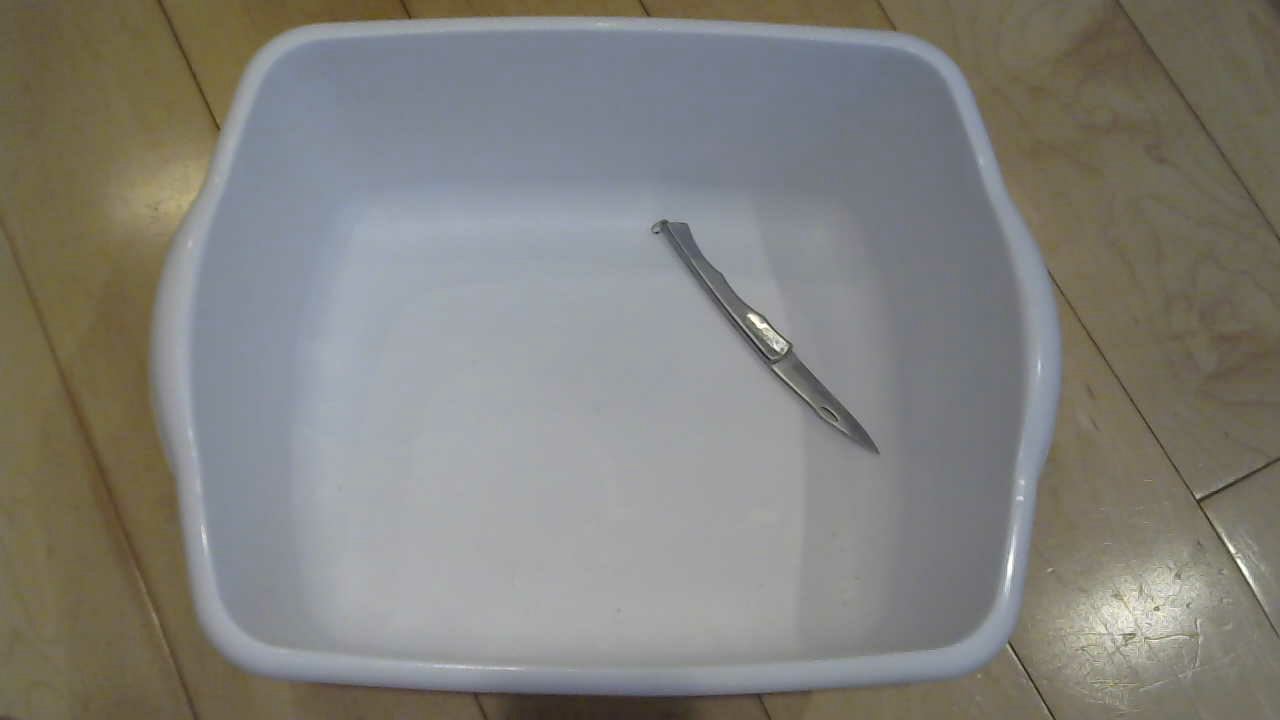knife: (650, 205, 896, 473)
